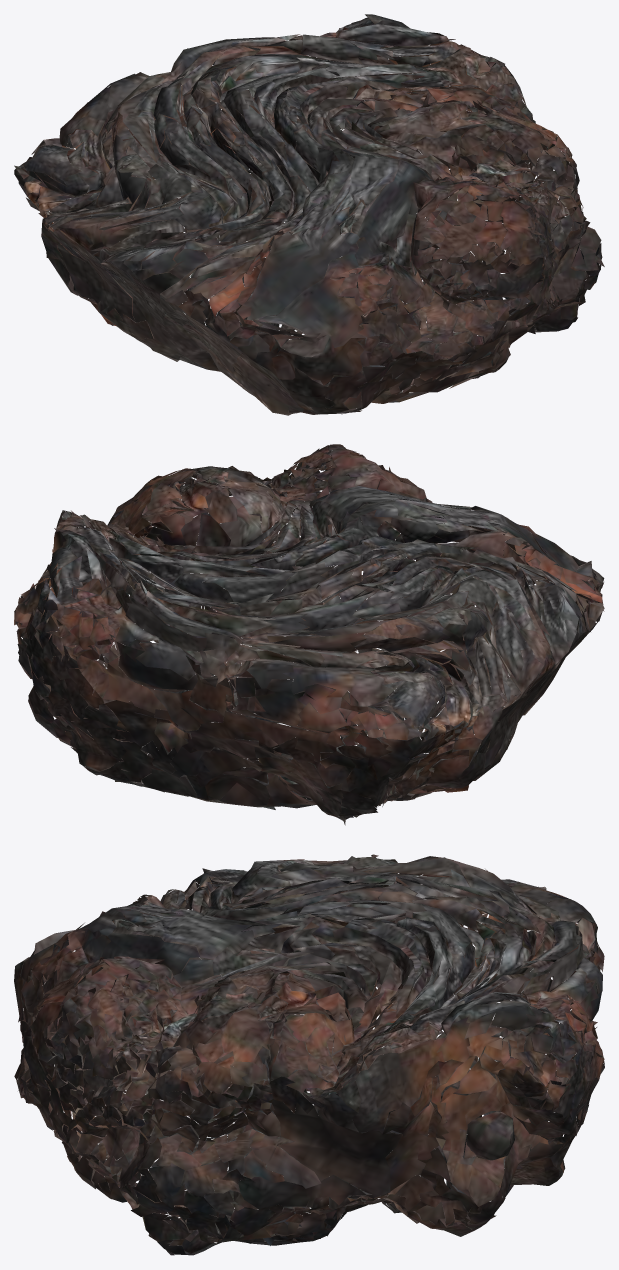
File: lavarock.glb
The picture shows the model from 3 angles, top to bottom: view 1: azimuth 30°, elevation 25°; view 2: azimuth 150°, elevation 25°; view 3: azimuth 270°, elevation 25°; orthographic projection. The views are drawn at different scales.
Visible parts, largest first — view 1: Mesh_0; view 2: Mesh_0; view 3: Mesh_0.
Part boxes in pixels (x1,y1,x2,y2): Mesh_0: (14,14,604,415); Mesh_0: (14,444,604,825); Mesh_0: (14,854,604,1255).
Bounding box in the file's own units: 1.01 × 0.479 × 0.9976.
1 material, 1 textured.
